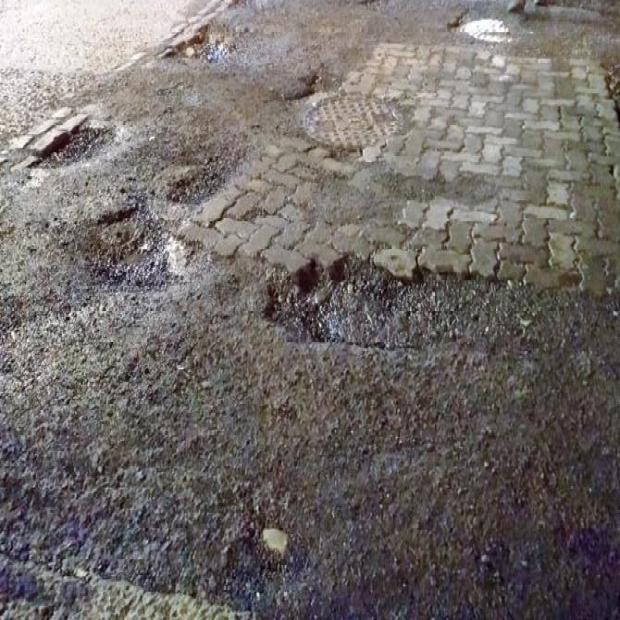lubang: (265, 258, 535, 348), (85, 202, 193, 302), (167, 148, 239, 217), (20, 124, 123, 168), (160, 20, 245, 63), (448, 0, 535, 42), (292, 61, 336, 100)
